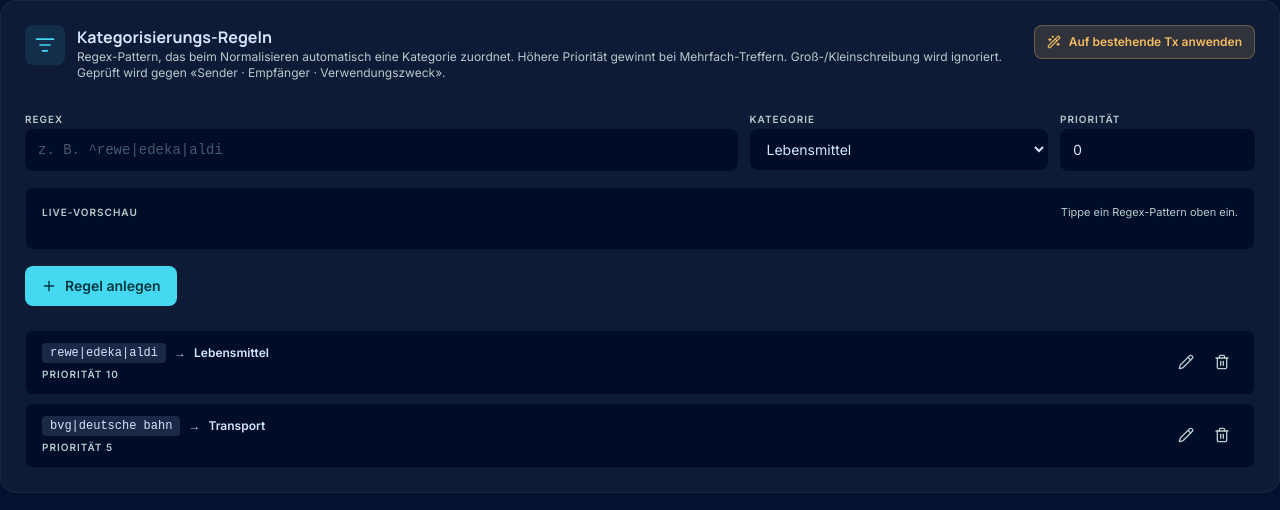
Test case: RulesSection › flags an invalid regex inline without crashing
Type "[unclosed" into the field labelled "Regex". click: {"x": 381, "y": 150}
box: x1=25 y1=129 x2=738 y2=171
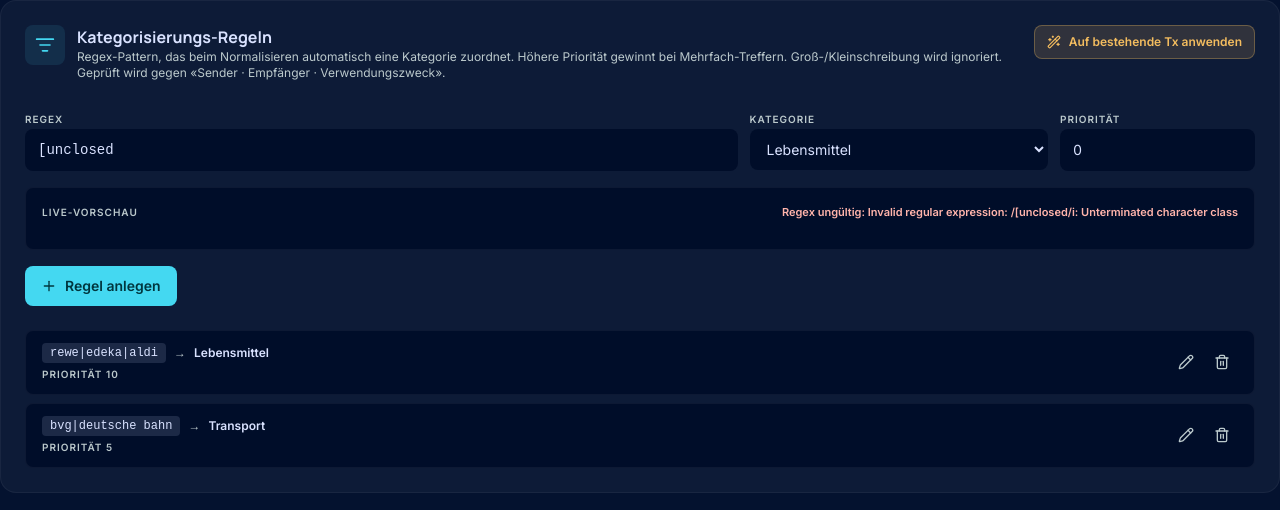
Expected: the text "Regex ungültig" is shown, x1=782 y1=205 x2=868 y2=219
